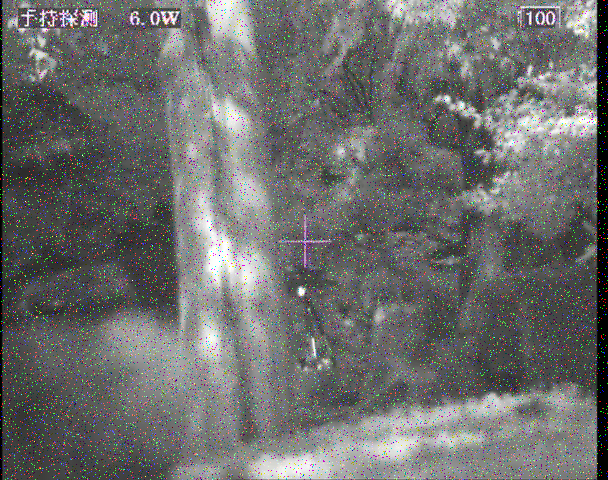my: (295, 286, 306, 298)
